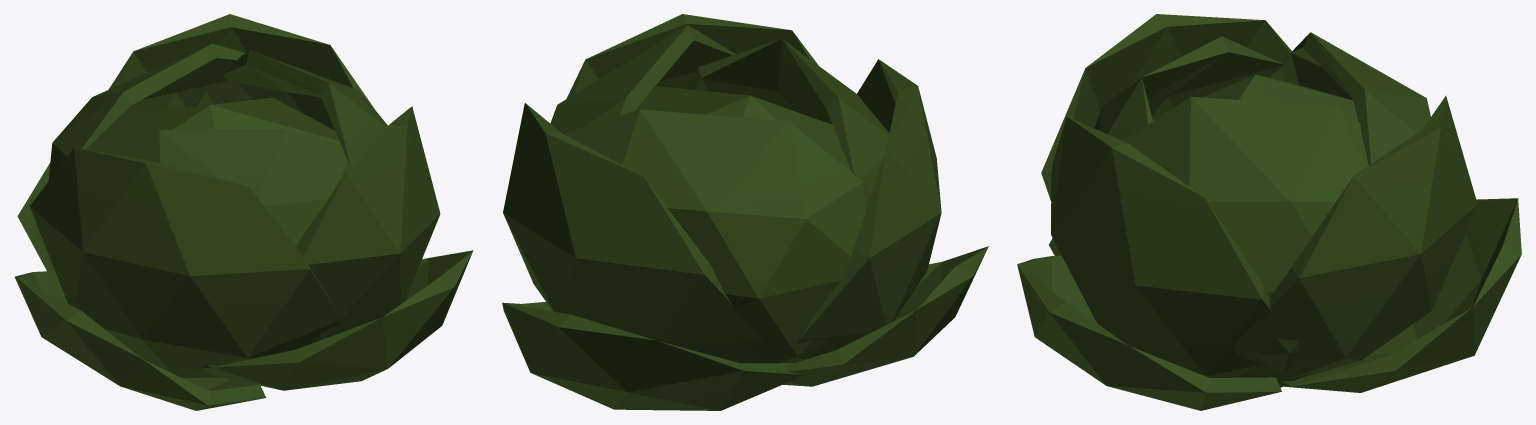
The model's file is Cabbage_03.fbx.
The picture shows the model from 3 angles, left to right: view 1: azimuth 30°, elevation 25°; view 2: azimuth 150°, elevation 25°; view 3: azimuth 270°, elevation 25°; orthographic projection. The views are drawn at different scales.
Parts seen in each view (by area): view 1: Cabbage_03; view 2: Cabbage_03; view 3: Cabbage_03.
Boxes of the visible parts, x1,y1,x2,y2 form: Cabbage_03: [15, 14, 473, 410]; Cabbage_03: [502, 14, 988, 410]; Cabbage_03: [1017, 14, 1521, 410].
Size of the model in its own units: 0.5518 by 0.3909 by 0.5789.
